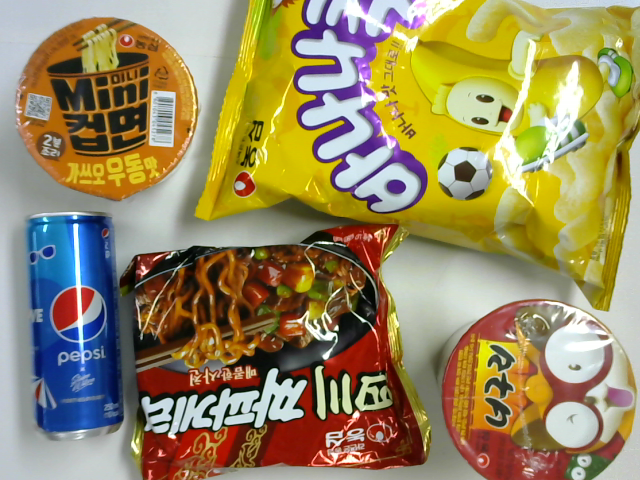Banana_Kick: (193, 2, 640, 312)
Pepsi_Cola_Can_250ml: (24, 211, 125, 439)
Raccoon: (442, 299, 640, 478)
Sichuan_Chapaghetti: (126, 221, 434, 480)
Udongmini: (13, 13, 200, 203)
